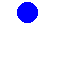circle: (17, 2, 37, 22)
